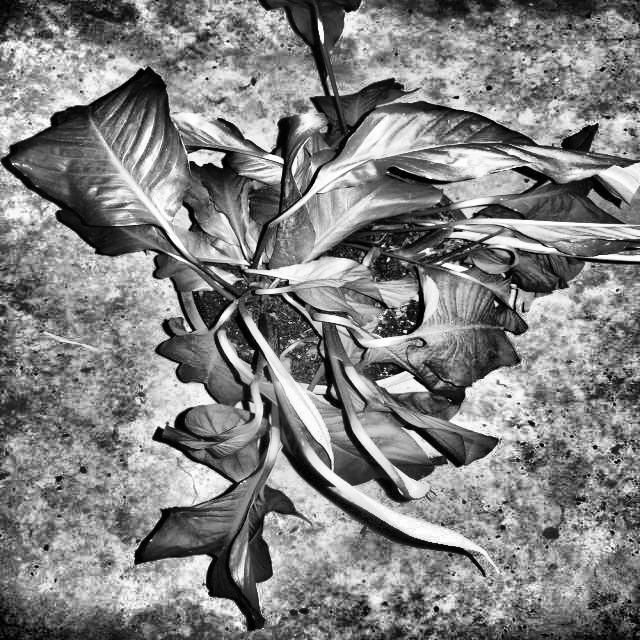plants: (17, 62, 640, 619)
